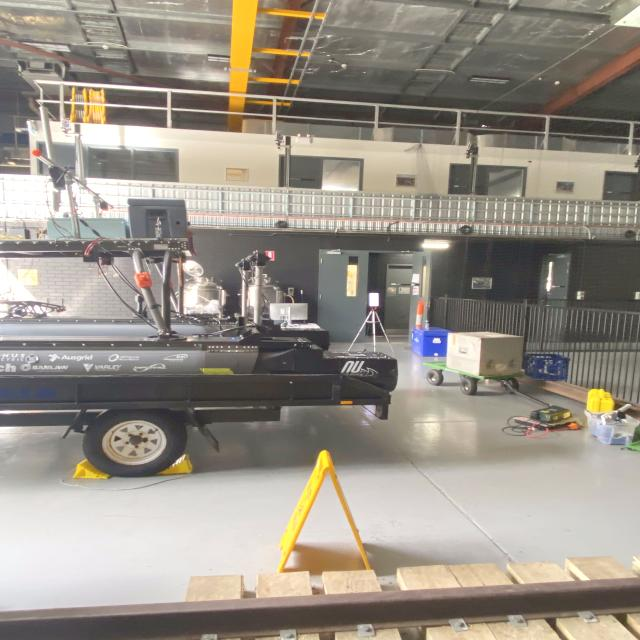matrix: (367, 291, 381, 307)
